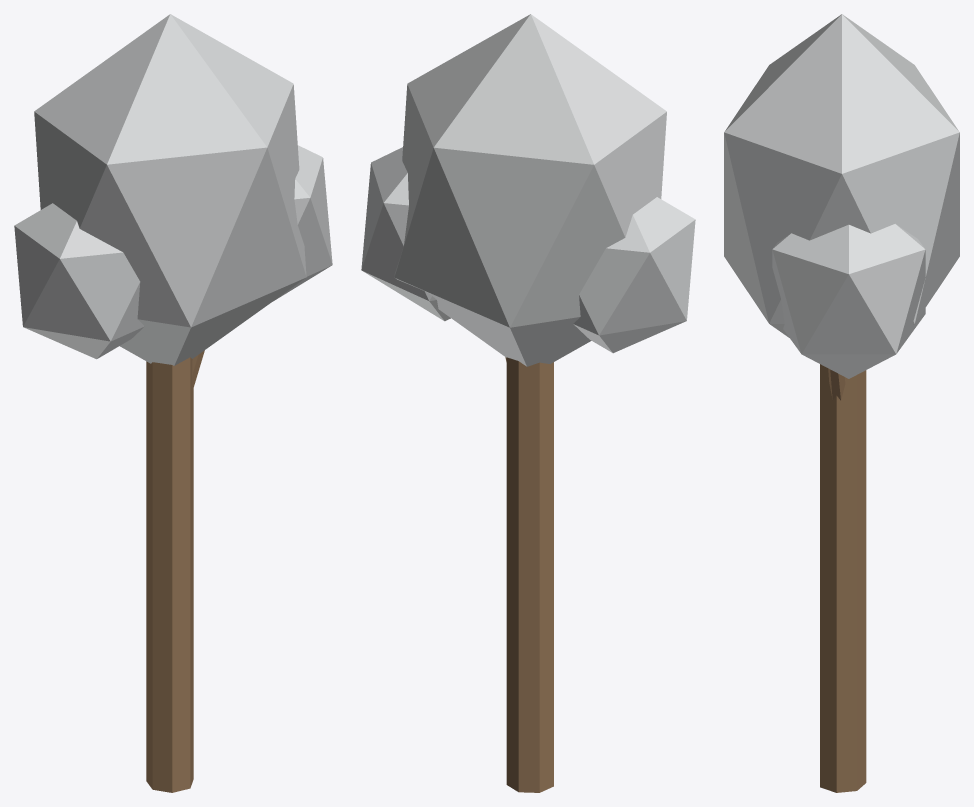
Rendered from leaf_tree_02_snow.glb.
3 renders of one model, left to right at view 1: azimuth 30°, elevation 25°; view 2: azimuth 150°, elevation 25°; view 3: azimuth 270°, elevation 25°, orthographic.
Visible parts, largest first — view 1: leaf_tree_02_snow_canopy_1, leaf_tree_02_snow_trunk, leaf_tree_02_snow_canopy_3, leaf_tree_02_snow_canopy_2; view 2: leaf_tree_02_snow_canopy_1, leaf_tree_02_snow_trunk, leaf_tree_02_snow_canopy_3, leaf_tree_02_snow_canopy_2; view 3: leaf_tree_02_snow_canopy_1, leaf_tree_02_snow_trunk, leaf_tree_02_snow_canopy_2.
Boxes of the visible parts, <box> form: leaf_tree_02_snow_canopy_1: <box>34,14,306,365</box>; leaf_tree_02_snow_trunk: <box>146,357,193,792</box>; leaf_tree_02_snow_canopy_3: <box>14,203,144,359</box>; leaf_tree_02_snow_canopy_2: <box>273,145,332,301</box>; leaf_tree_02_snow_canopy_1: <box>394,14,666,366</box>; leaf_tree_02_snow_trunk: <box>506,357,553,792</box>; leaf_tree_02_snow_canopy_3: <box>573,197,695,353</box>; leaf_tree_02_snow_canopy_2: <box>361,147,450,321</box>; leaf_tree_02_snow_canopy_1: <box>724,14,959,337</box>; leaf_tree_02_snow_trunk: <box>820,364,866,792</box>; leaf_tree_02_snow_canopy_2: <box>772,224,925,378</box>.
Size of the model in its own units: 2.05 by 4.9 by 1.36.
